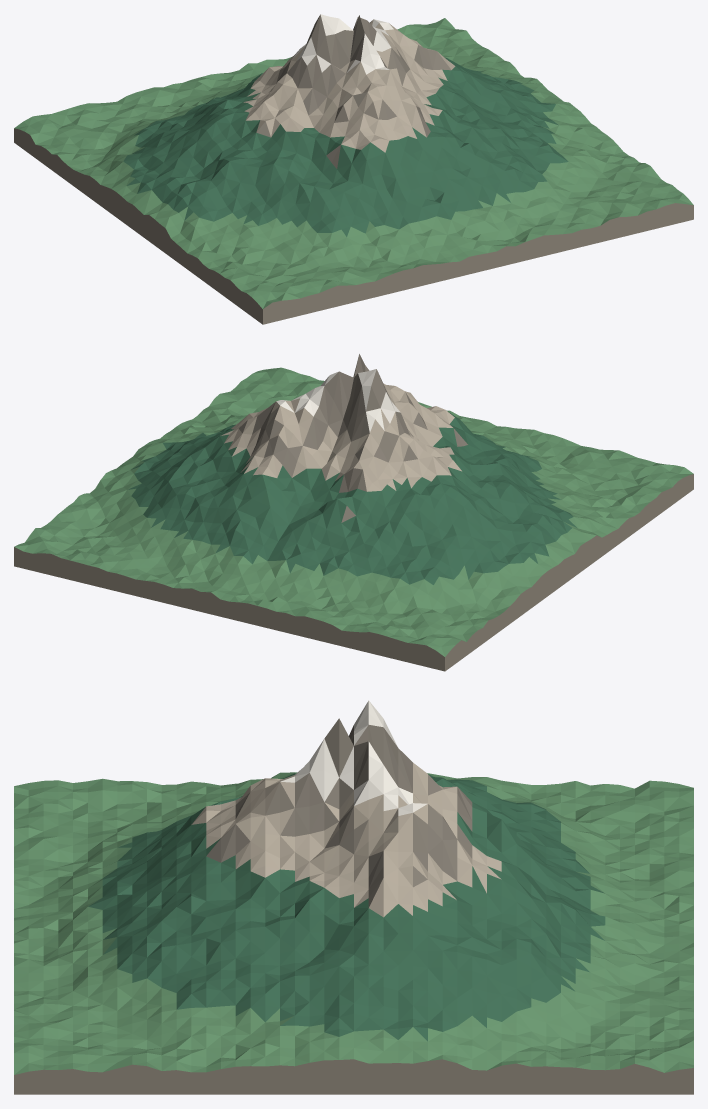
File: TERRAIN_05.obj
The picture shows the model from 3 angles, top to bottom: view 1: azimuth 30°, elevation 25°; view 2: azimuth 150°, elevation 25°; view 3: azimuth 270°, elevation 25°; orthographic projection. The views are drawn at different scales.
Parts seen in each view (by area): view 1: TERRAIN_05; view 2: TERRAIN_05; view 3: TERRAIN_05.
Boxes of the visible parts, bbox=[...] form: TERRAIN_05: bbox=[14, 14, 693, 324]; TERRAIN_05: bbox=[14, 354, 693, 671]; TERRAIN_05: bbox=[14, 700, 693, 1094].
Size of the model in its own units: 110 by 41.58 by 110.
